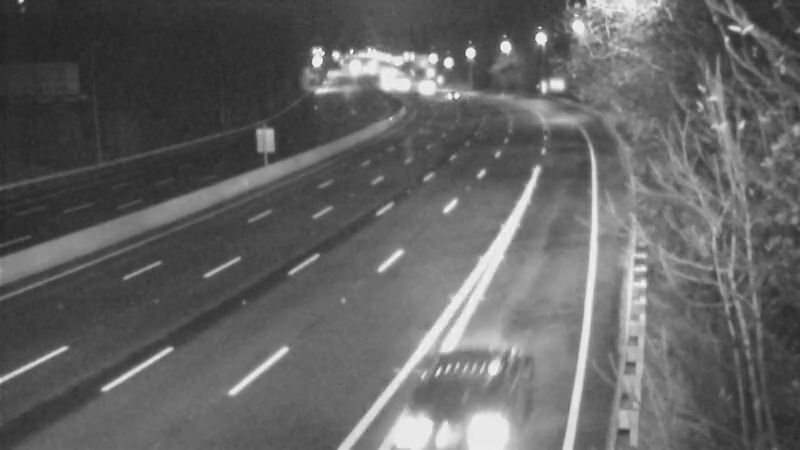vehicle: (396, 336, 506, 446), (404, 65, 454, 115), (428, 72, 478, 122)
